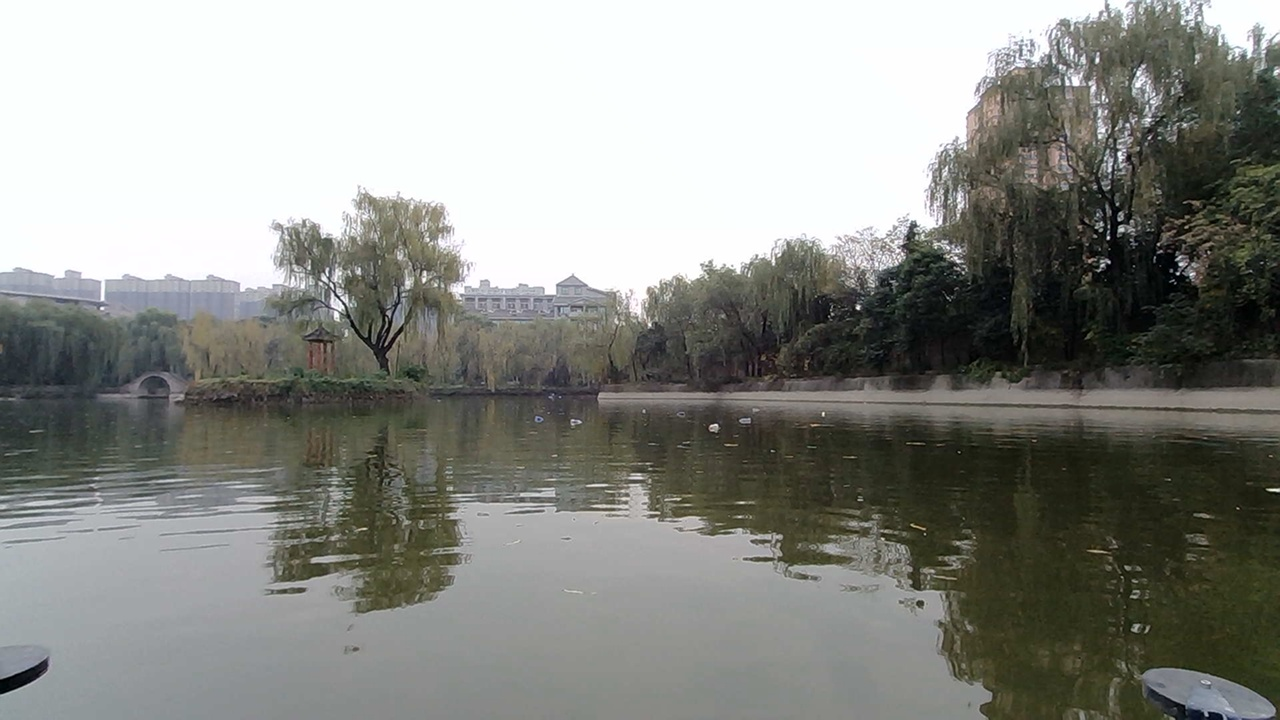bottle: (813, 401, 842, 428), (667, 400, 697, 424), (628, 396, 654, 418), (548, 403, 570, 425), (568, 409, 589, 430), (705, 417, 728, 435), (736, 409, 758, 425)
